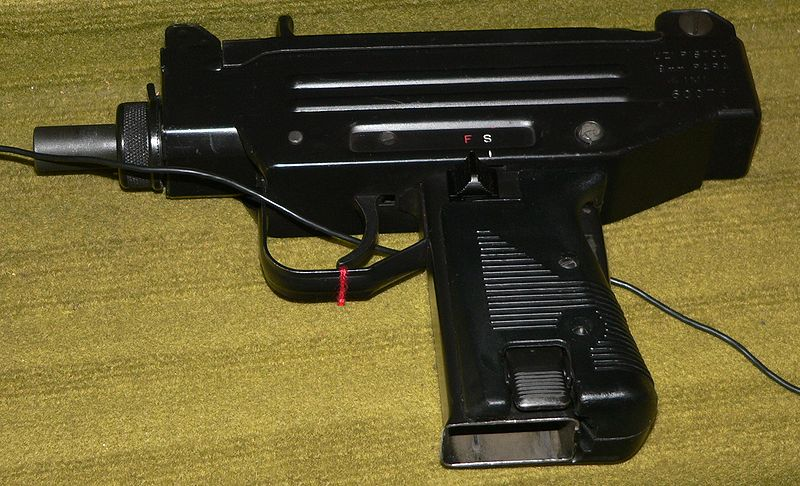rifle: (40, 8, 727, 450)
